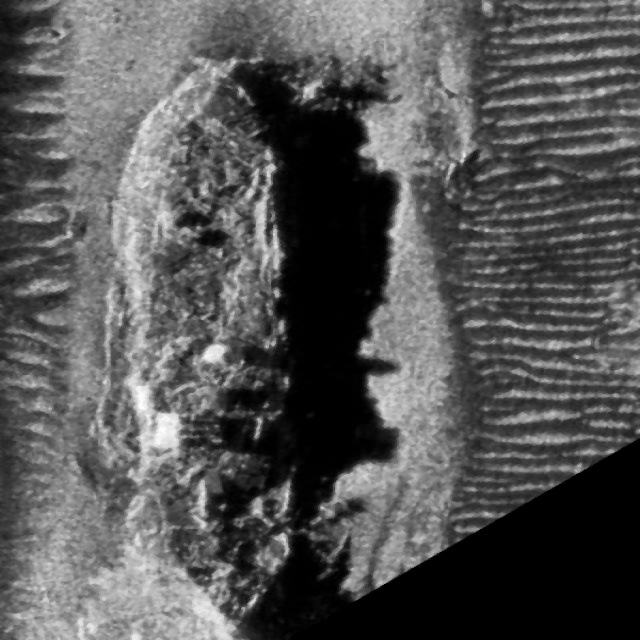Ship: (98, 44, 318, 633)
